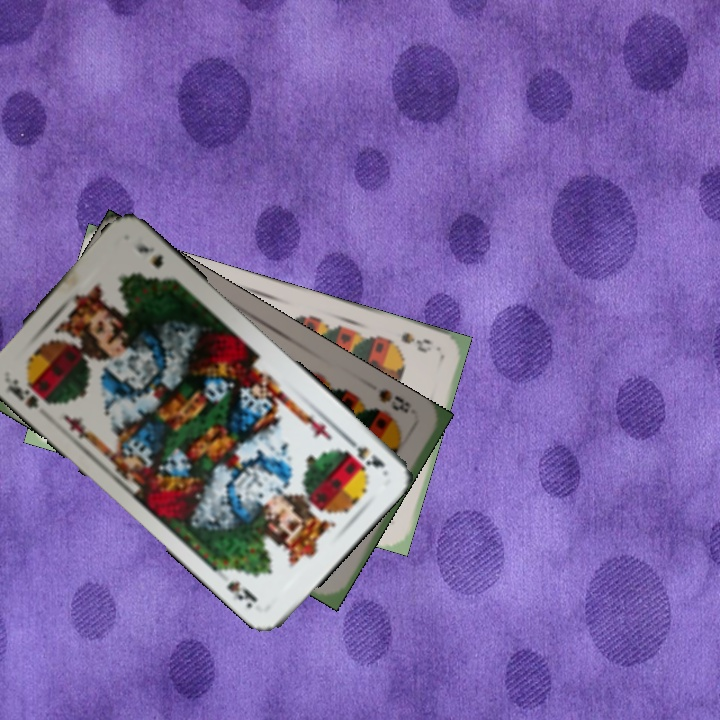S8: (375, 385, 414, 416)
S9: (382, 328, 434, 356)
SK: (2, 374, 56, 411), (339, 431, 388, 471)
